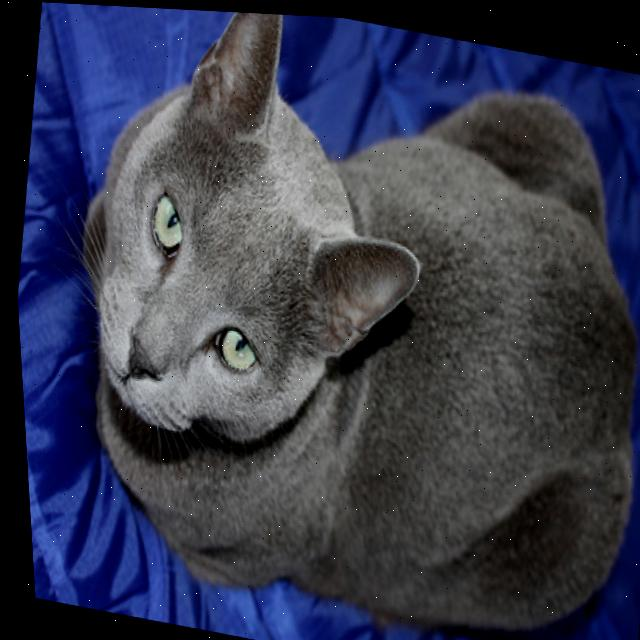Russian Blue: (20, 1, 640, 640)
